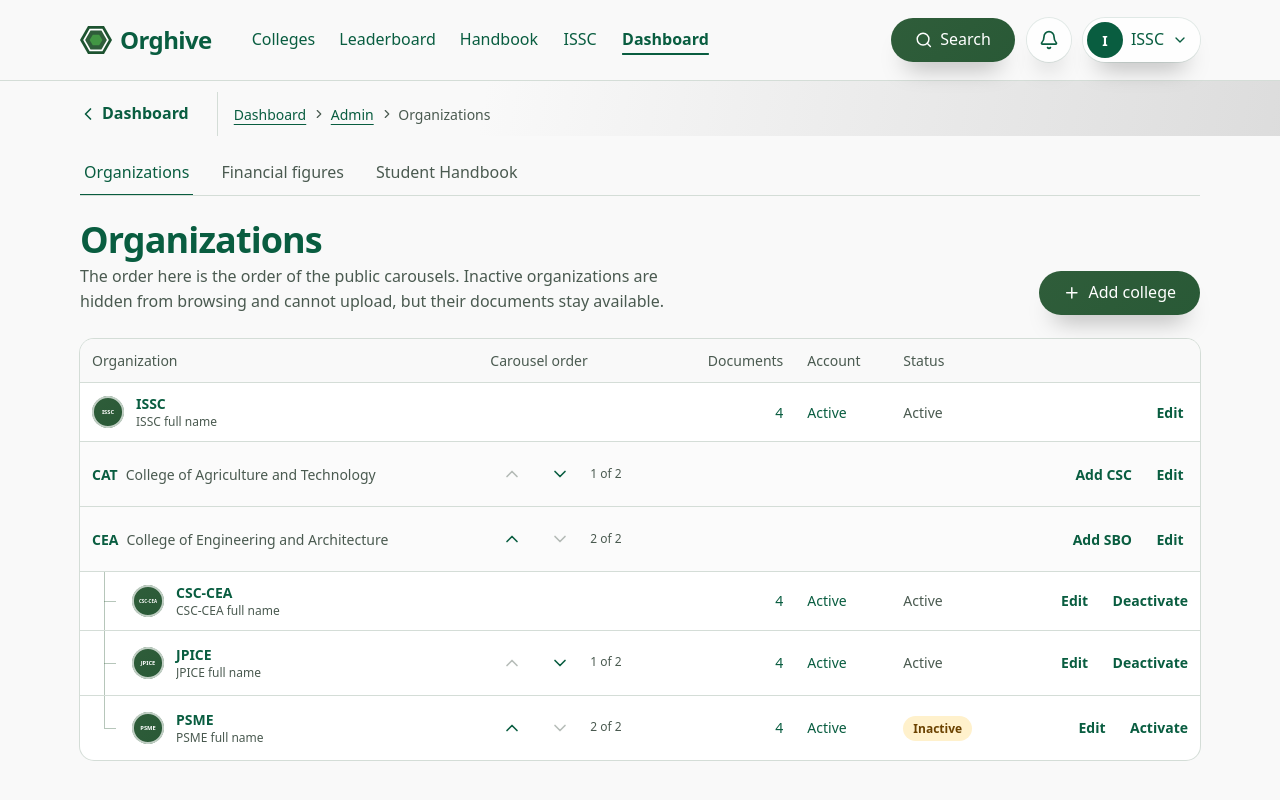
/admin › suggests a link name from the short name for a new SBO
Click the button "Add SBO".
click(1102, 539)  # box [1073,529,1132,550]
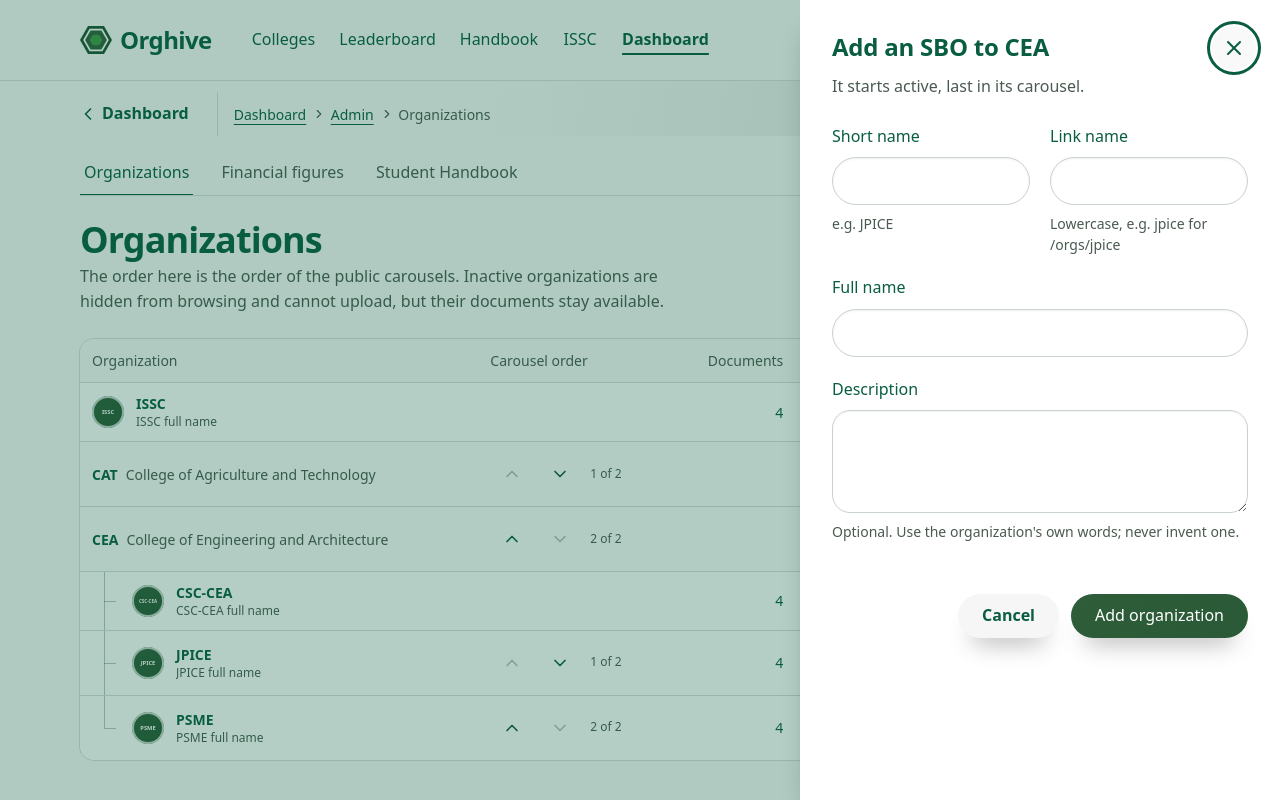
Type "ICpEP.SE" into the field labelled "Short name".
click(931, 181); type("ICpEP.SE")  # box [832,157,1030,205]
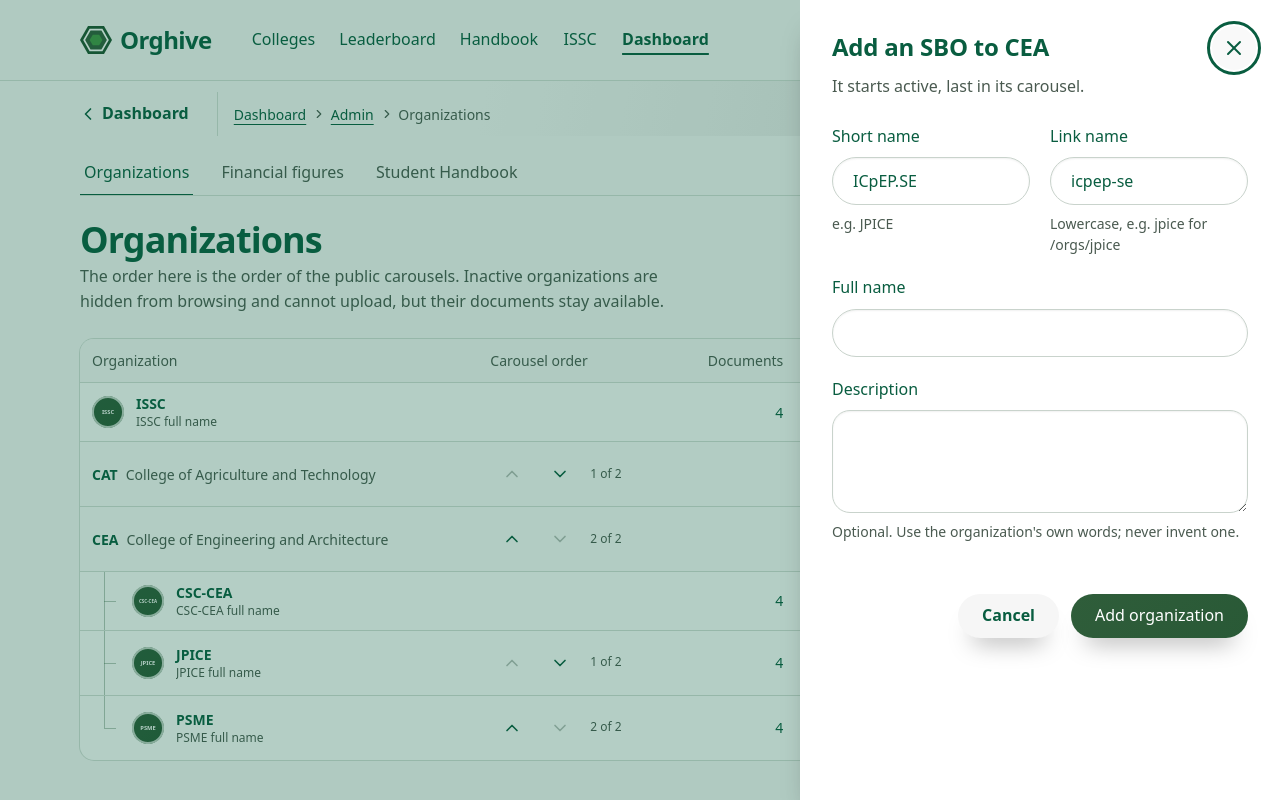
expect the field labelled "Link name" holds "icpep-se": met, box [1050,157,1248,205]
